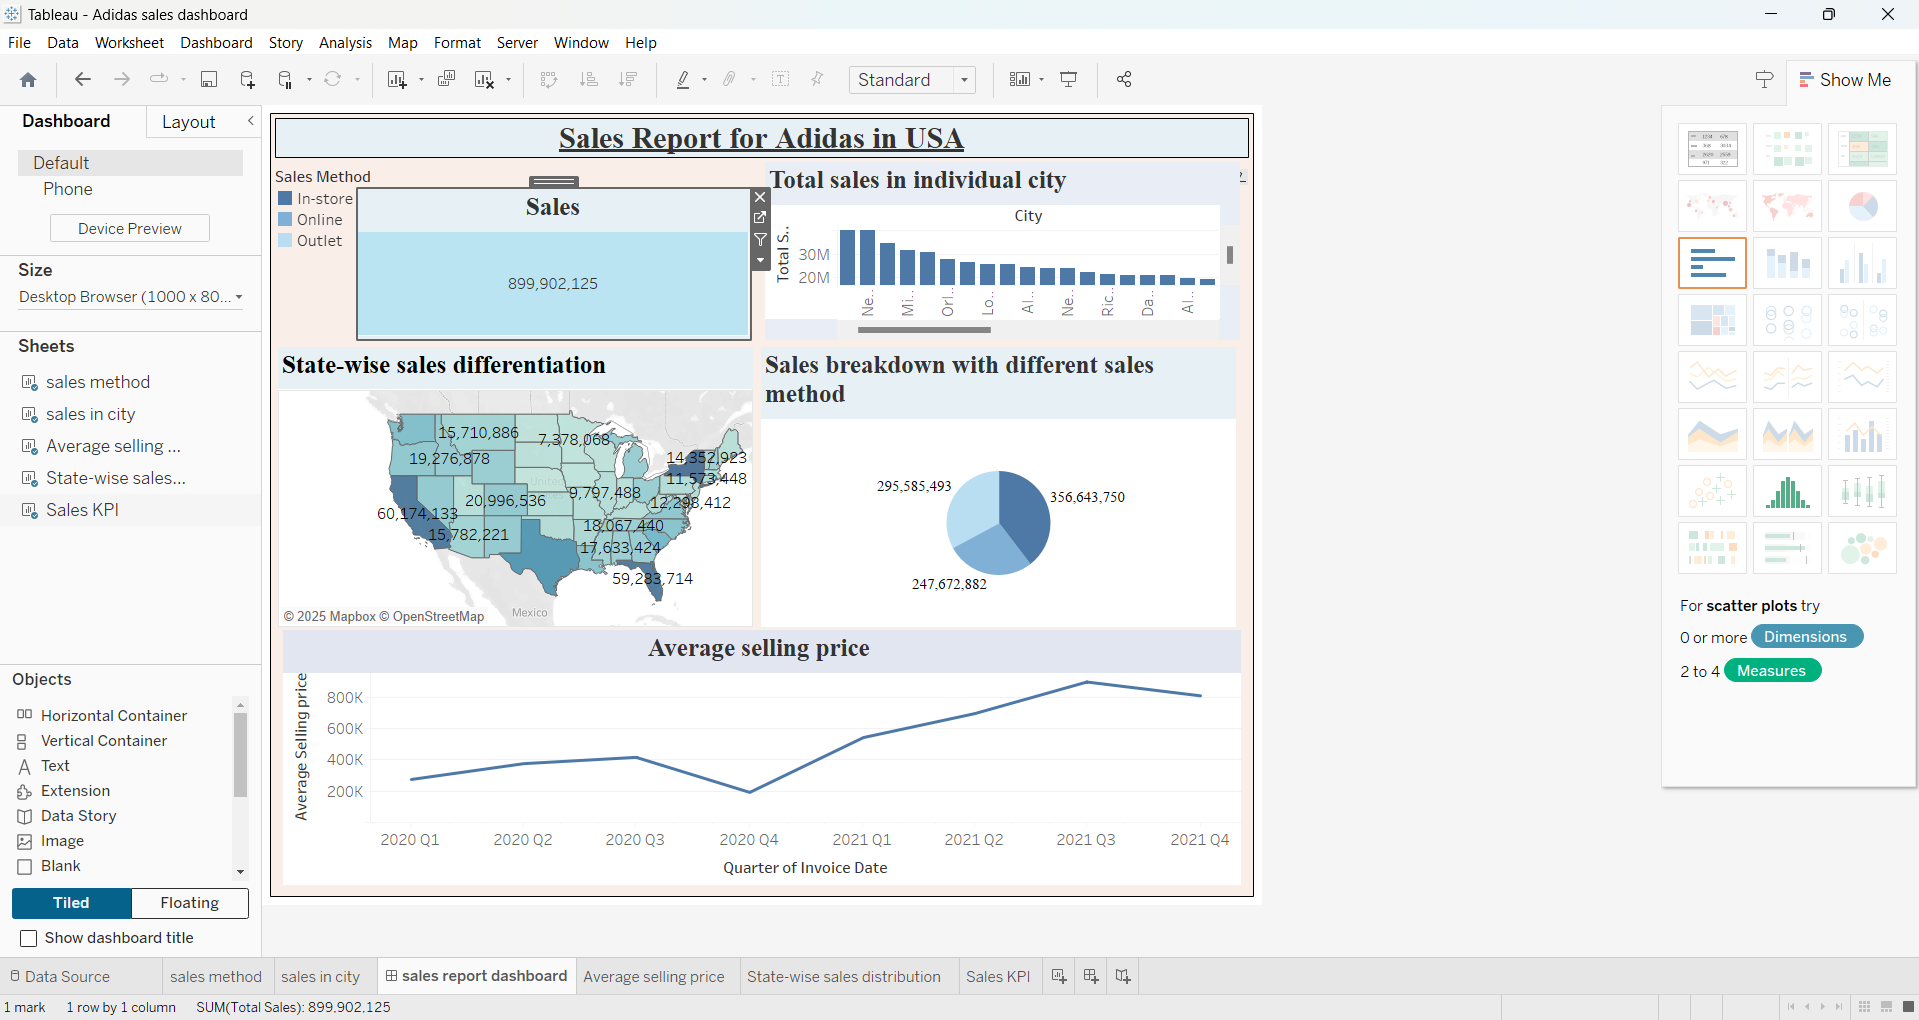

Layout of this report page (visuals, bound fields, positions):
{"tool":"tableau","page":{"name":"sales report dashboard","canvas":[1000,800],"ordinal":0},"visuals":[{"type":"title","box":[9,9,982,48]},{"type":"legend","title":"sales method","param":"[federated.0zhrw9x0l73da21chfpno11u3e81].[none:Sales Method:nk]","box":[9,57,982,734]},{"type":"worksheet","title":"sales in city ","mark":"Automatic","rows":["Total Sales"],"cols":["City"],"box":[503,57,475,178]},{"type":"worksheet","title":"Sales KPI","mark":"Automatic","box":[96,84,392,150]},{"type":"worksheet","title":"State-wise sales distribution","mark":"Automatic","box":[16,242,475,280]},{"type":"worksheet","title":"sales method","mark":"Pie","box":[499,242,475,280]},{"type":"worksheet","title":"Average selling price","mark":"Automatic","rows":["Calculation_1499135729192906752"],"cols":["Invoice Date"],"box":[11,515,978,275]}]}

Visuals, with their boxes on the page's 1000x800 design canvas (x1, y1, x2, y2). These are canvas units, not pixel positions in the 1919x1020 screenshot, which may show the page scaled, cropped or inside an application window:
title: (x1=9, y1=9, x2=991, y2=57)
"sales method" legend: (x1=9, y1=57, x2=991, y2=791)
"sales in city " worksheet: (x1=503, y1=57, x2=978, y2=235)
"Sales KPI" worksheet: (x1=96, y1=84, x2=488, y2=234)
"State-wise sales distribution" worksheet: (x1=16, y1=242, x2=491, y2=522)
"sales method" worksheet (Pie marks): (x1=499, y1=242, x2=974, y2=522)
"Average selling price" worksheet: (x1=11, y1=515, x2=989, y2=790)
